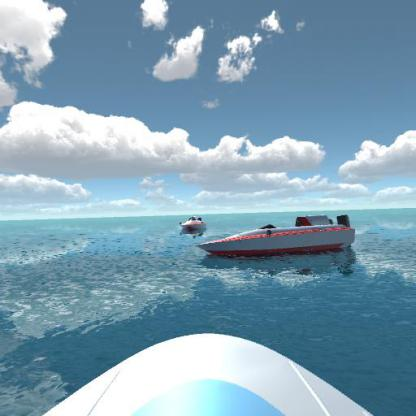usv3: (196, 204, 364, 261), (177, 211, 211, 236)
